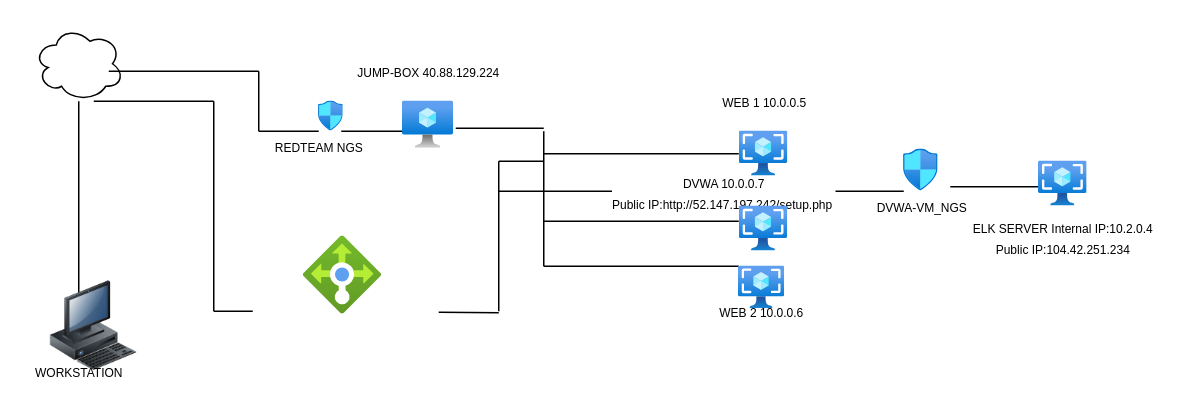
This 1179x413 diagram has some shape labels left out. The centre of each missing label's shape, as x and y in pixels:
"INTERNET" goes at point 78,63.
"REDTEAM LOAD BALANCER" goes at point 342,275.
